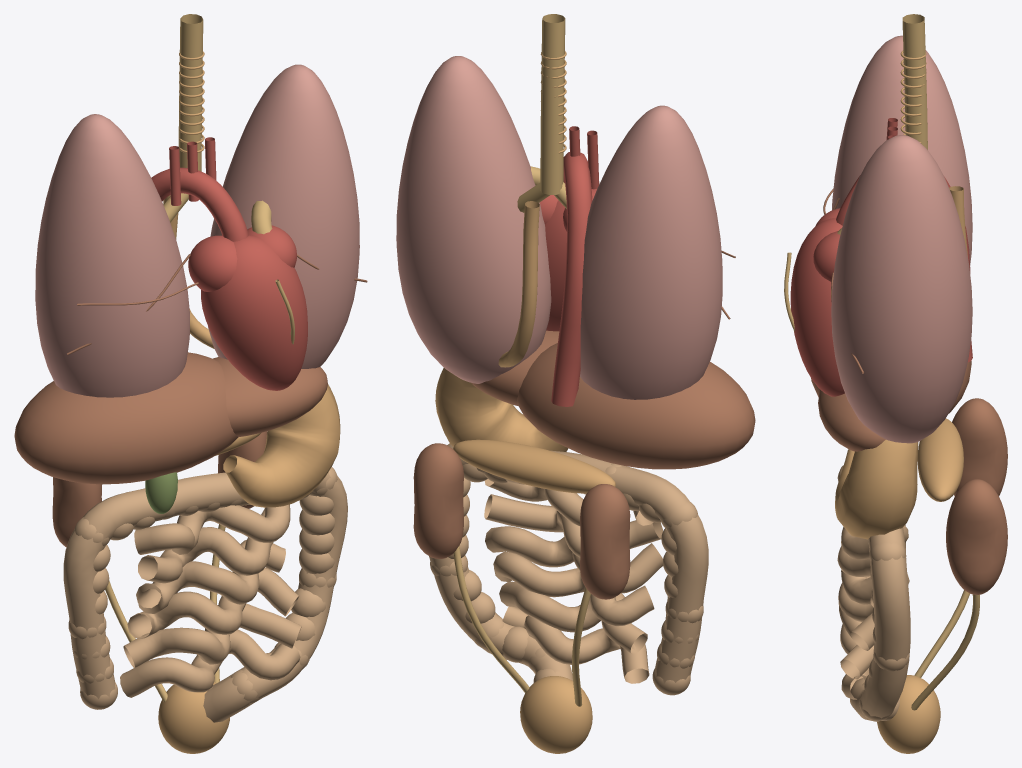
The model's file is viscera-v1.glb.
3 renders of one model, left to right at view 1: azimuth 30°, elevation 25°; view 2: azimuth 150°, elevation 25°; view 3: azimuth 270°, elevation 25°, orthographic.
Visible parts, largest first — view 1: Visceral teaching layer; view 2: Visceral teaching layer; view 3: Visceral teaching layer.
Boxes of the visible parts, x1,y1,x2,y2 form: Visceral teaching layer: (14,14,367,753); Visceral teaching layer: (396,14,755,753); Visceral teaching layer: (784,14,1007,753).
Size of the model in its own units: 0.3008 by 0.6252 by 0.1733.
